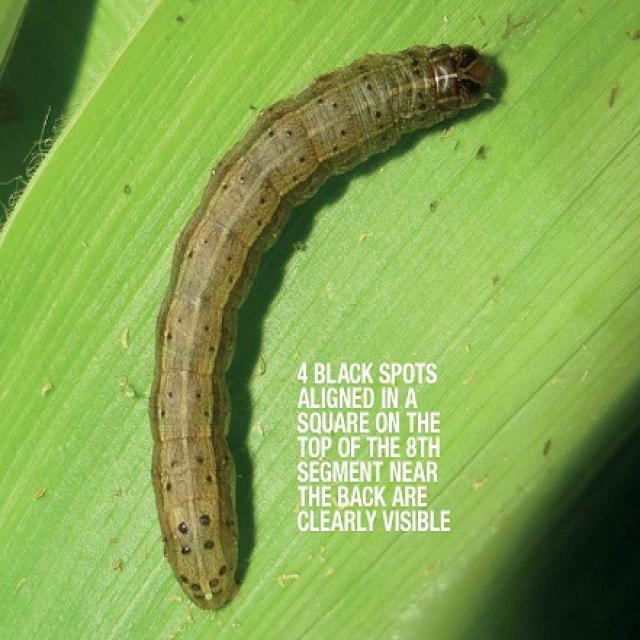worm: (148, 40, 498, 611)
